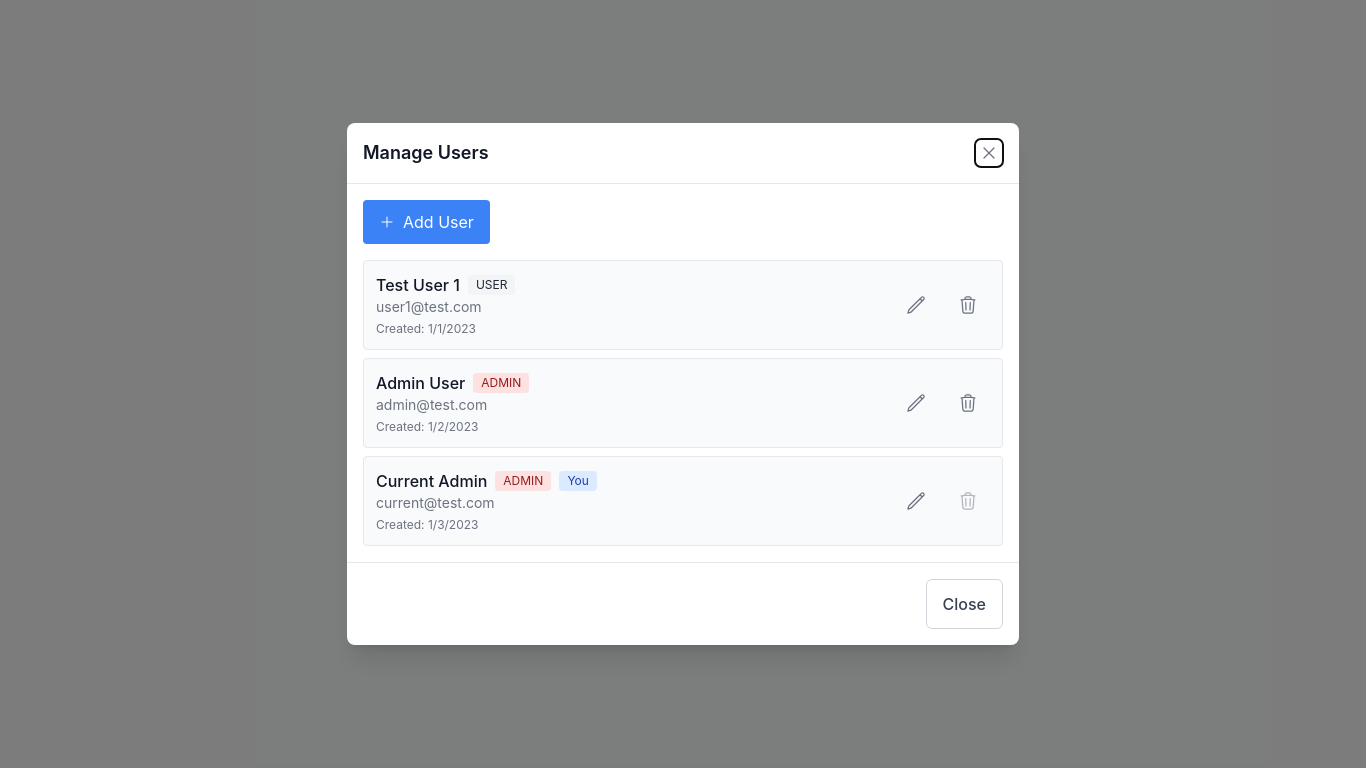
Test: UserManagementModal › user editing › shows edit form when edit button is clicked
Check: the text "Test User 1" is shown, box 376,273 -> 460,297
Click the button titled "Edit user" in the row of "user1@test.com" at {"x": 916, "y": 305}, box 894,283 -> 938,327
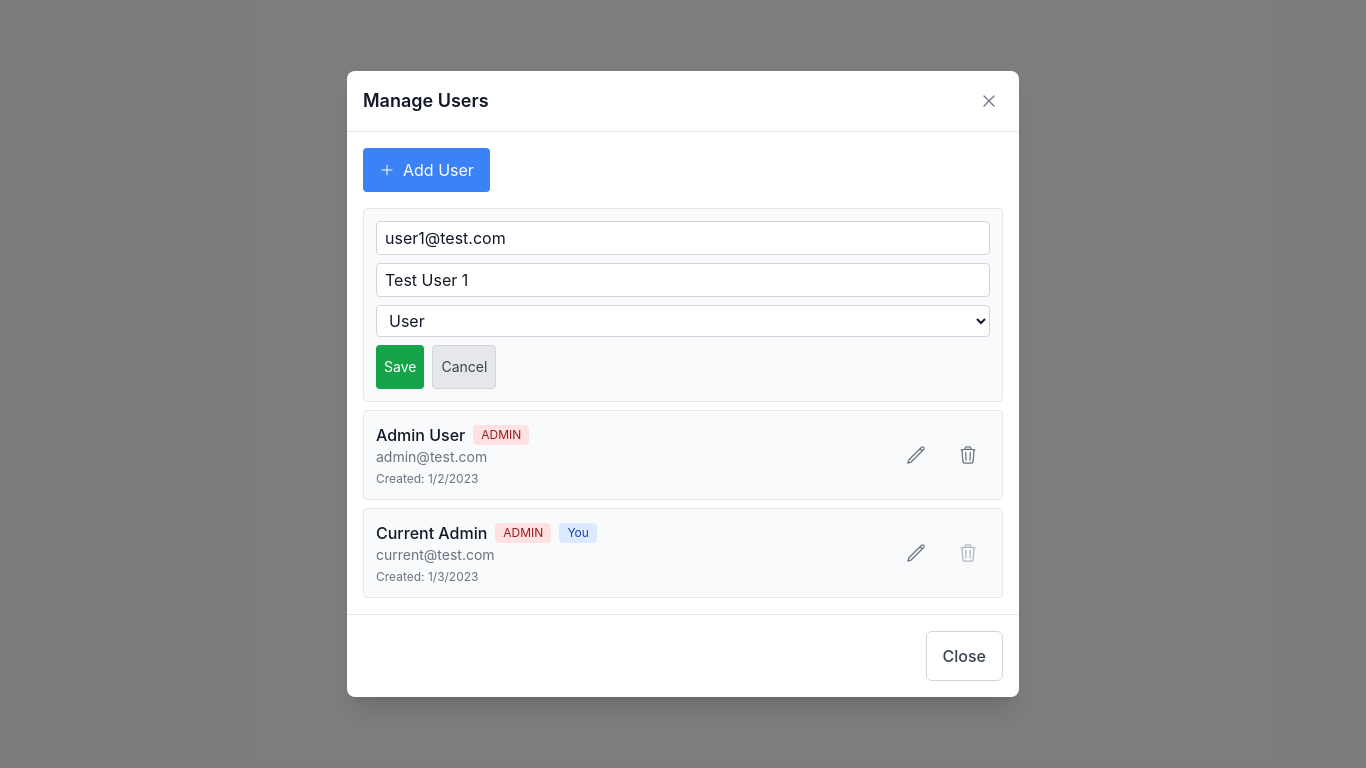
Check: the 1st field with placeholder "Email" is shown, box 376,221 -> 990,255
